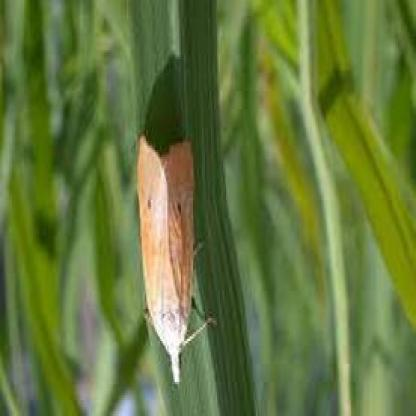stem-borer: (135, 134, 218, 386)
